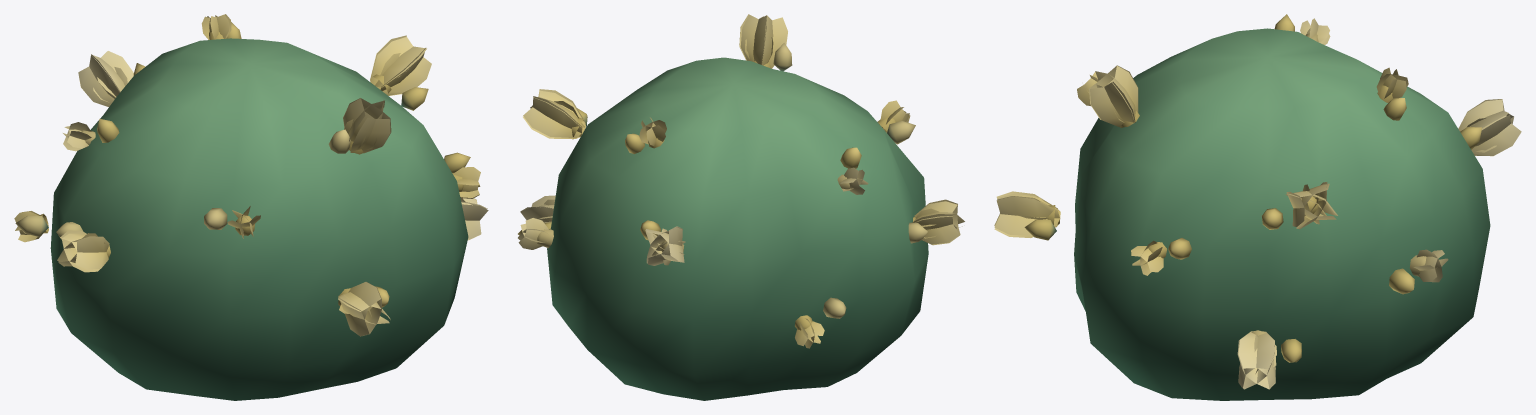
File: rose_butter.glb
3 renders of one model, left to right at view 1: azimuth 30°, elevation 25°; view 2: azimuth 150°, elevation 25°; view 3: azimuth 270°, elevation 25°, orthographic. The views are drawn at different scales.
Parts seen in each view (by area): view 1: rose_butter; view 2: rose_butter; view 3: rose_butter.
Part boxes in pixels (x1,y1,x2,y2): rose_butter: (14,14,488,400); rose_butter: (518,14,964,400); rose_butter: (994,14,1521,400).
Size of what is drawn, in the model's own units: 1.78 by 1.1 by 1.78.
